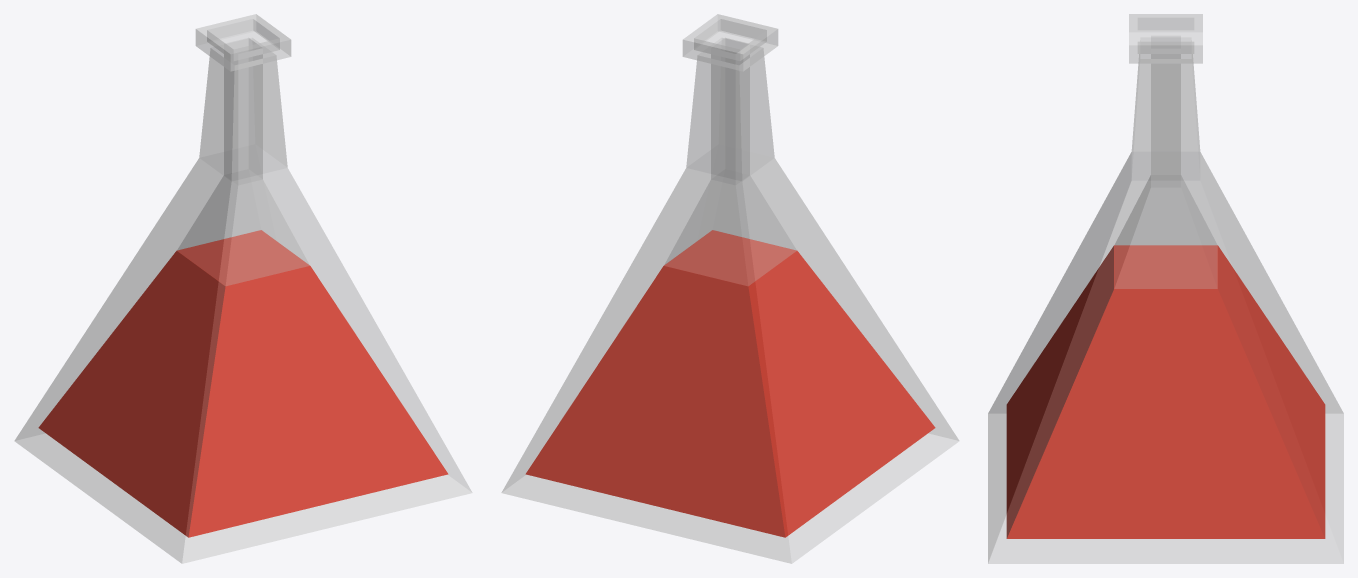
File: butla2.glb
3 renders of one model, left to right at view 1: azimuth 30°, elevation 25°; view 2: azimuth 150°, elevation 25°; view 3: azimuth 270°, elevation 25°, orthographic. The views are drawn at different scales.
Visible parts, largest first — view 1: Cube, Cube.001; view 2: Cube, Cube.001; view 3: Cube, Cube.001.
Boxes of the visible parts, box(x1,y1,x2,y2) form: Cube: box(14, 14, 472, 563); Cube.001: box(38, 230, 448, 537); Cube: box(501, 14, 959, 563); Cube.001: box(525, 230, 935, 537); Cube: box(988, 14, 1343, 563); Cube.001: box(1006, 245, 1325, 538).
Bounding box in the file's own units: 0.3234 × 0.4602 × 0.3234.
